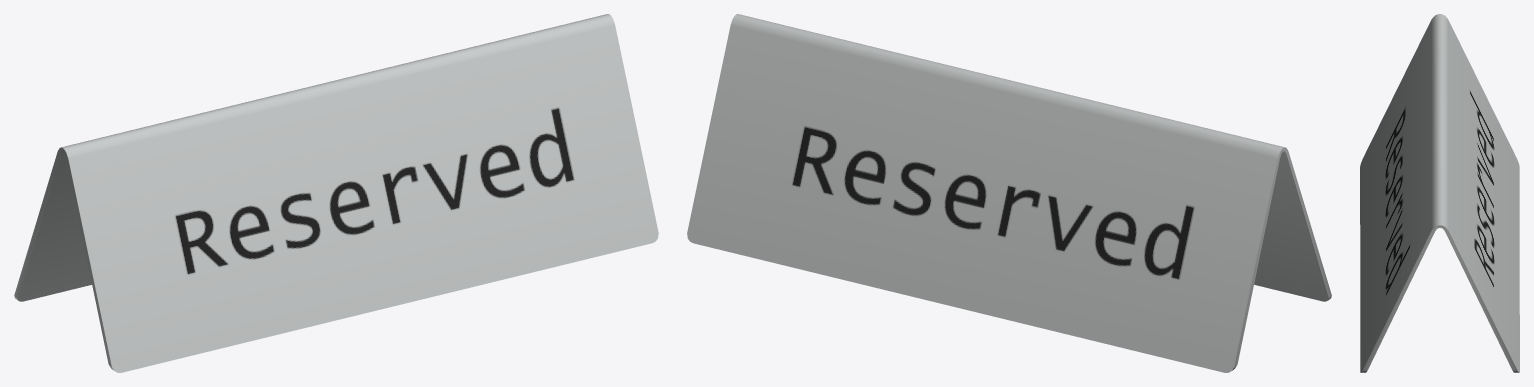
File: TableCards01_1.FBX
3 views of the same model, side by side, from view 1: azimuth 30°, elevation 25°; view 2: azimuth 150°, elevation 25°; view 3: azimuth 270°, elevation 25° (orthographic). The views are drawn at different scales.
Parts seen in each view (by area): view 1: TableCards01_1; view 2: TableCards01_1; view 3: TableCards01_1.
Part boxes in pixels (x1=…): TableCards01_1: x1=14, y1=14, x2=658, y2=372; TableCards01_1: x1=687, y1=14, x2=1331, y2=372; TableCards01_1: x1=1360, y1=14, x2=1519, y2=372.
Size of the model in its own units: 25.72 by 8.53 by 8.22.
